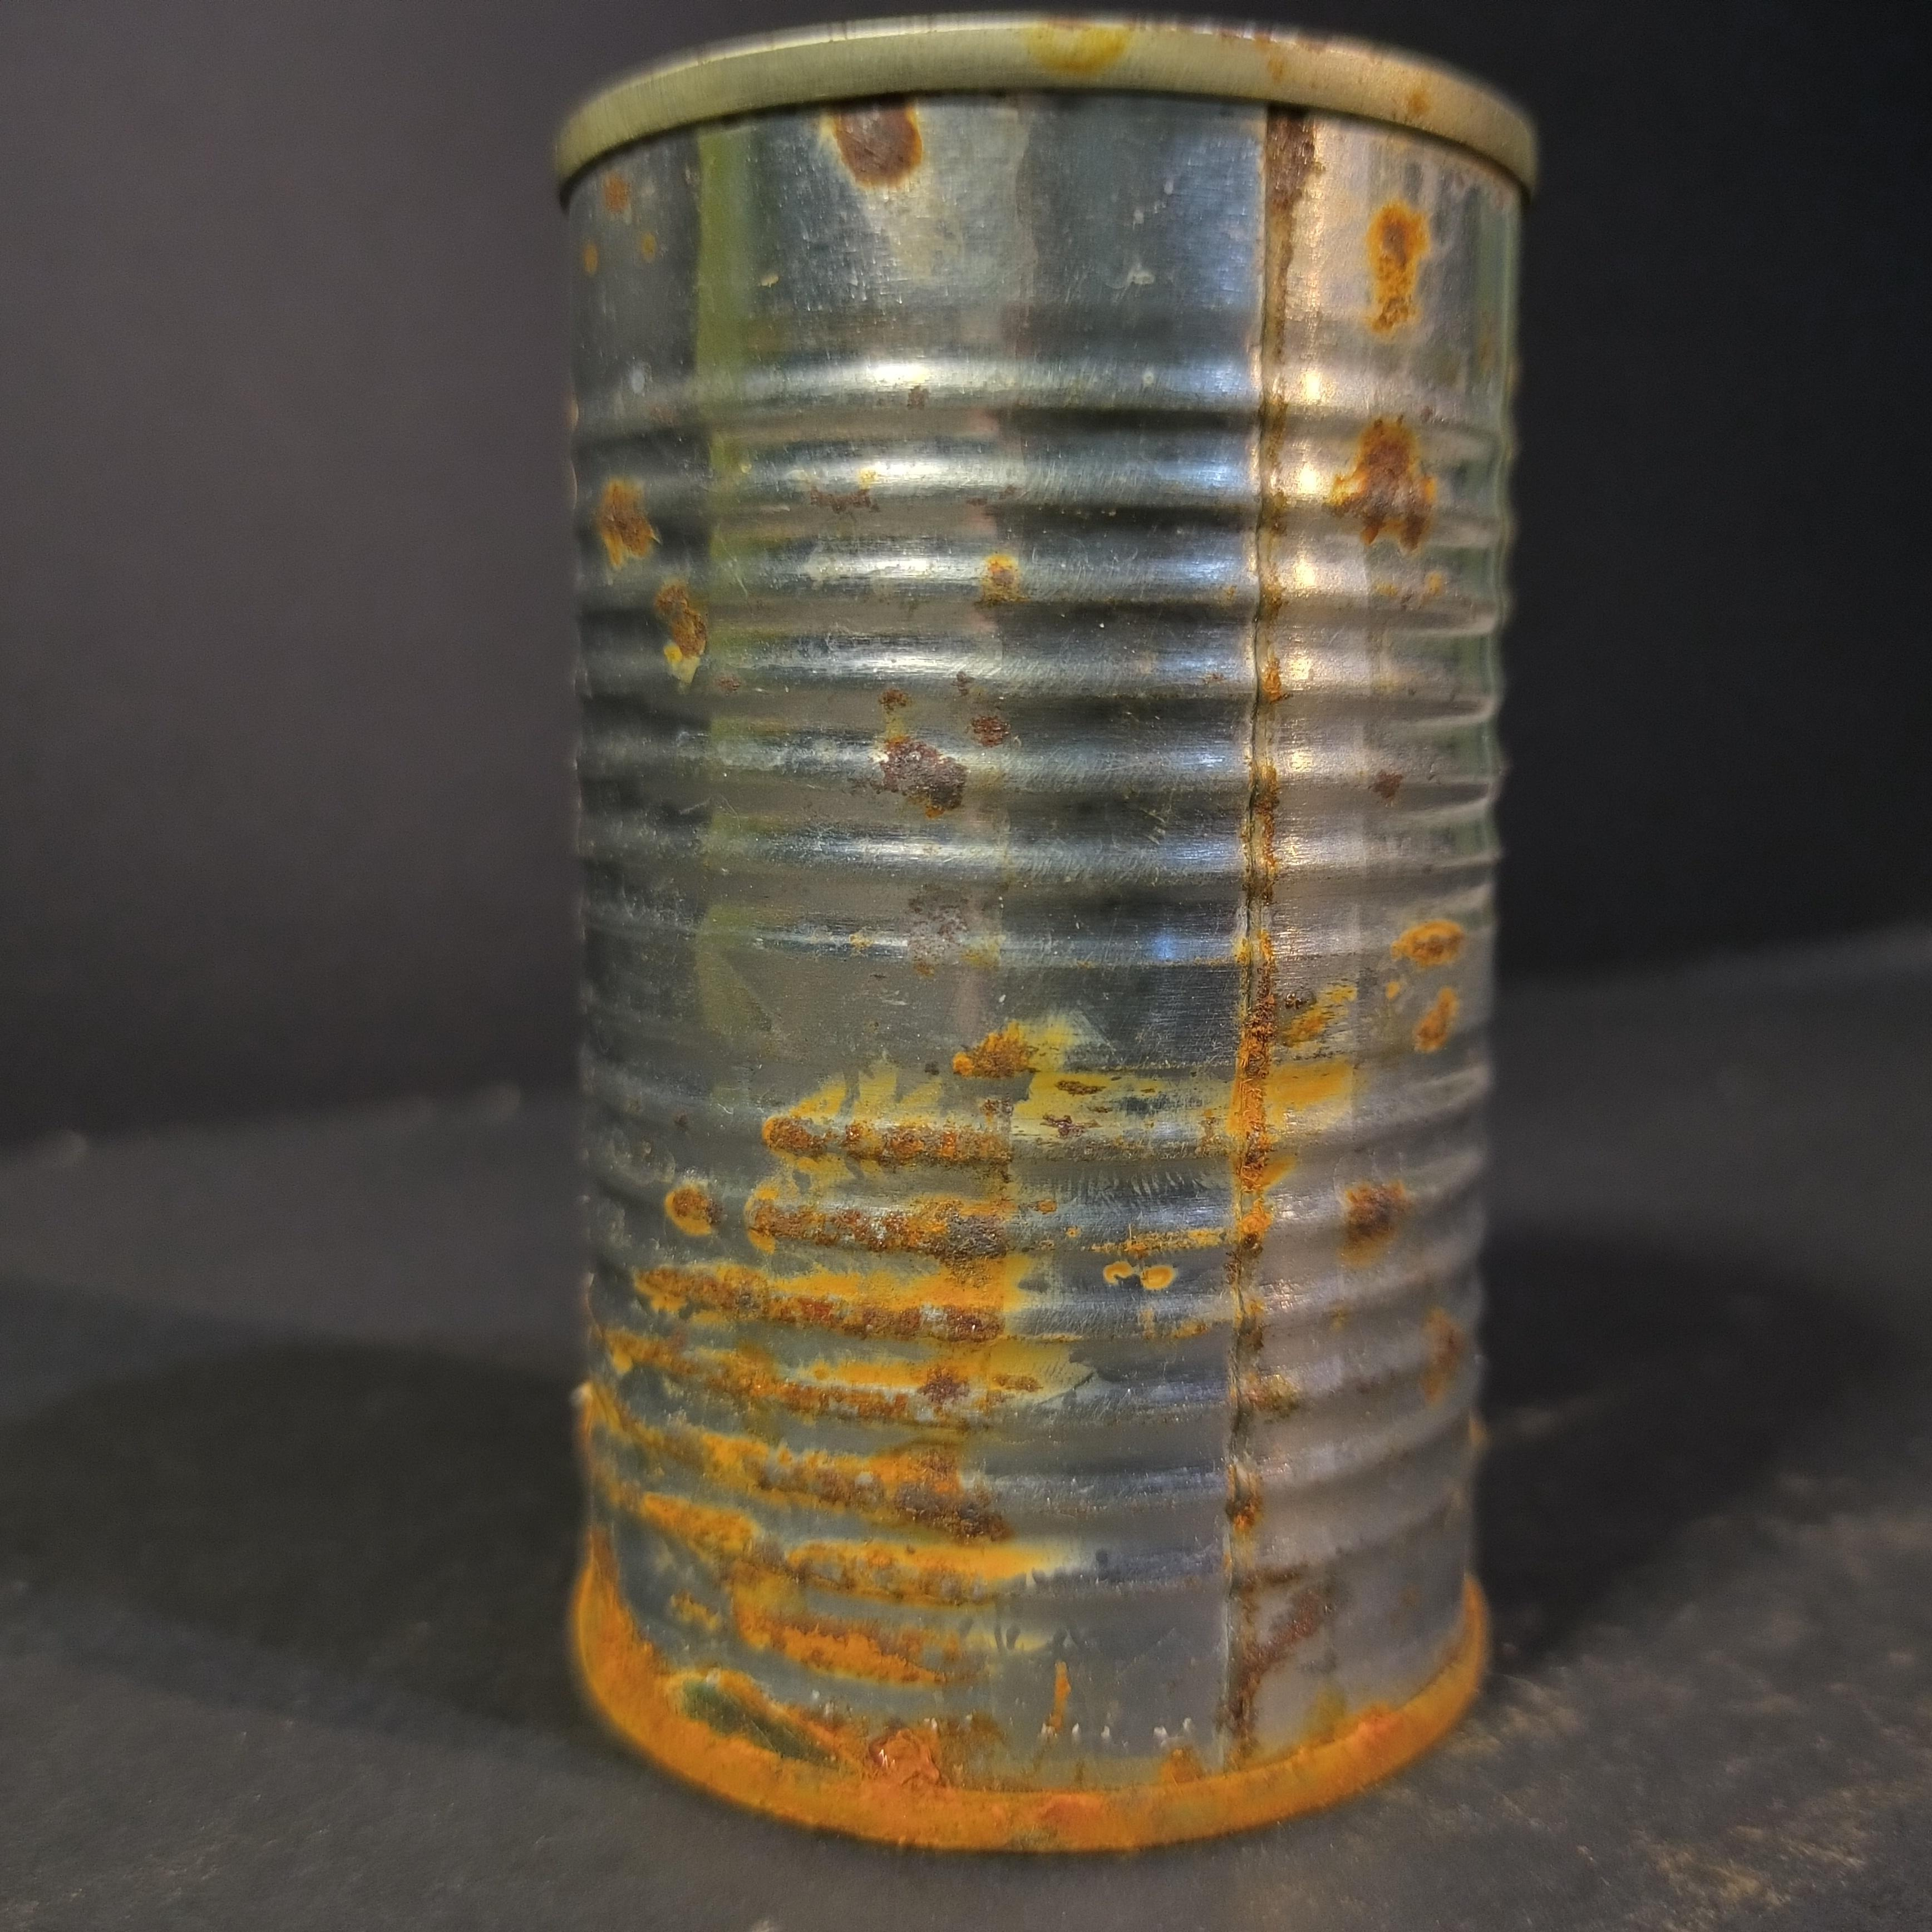Rusted: (517, 0, 1530, 1850)
